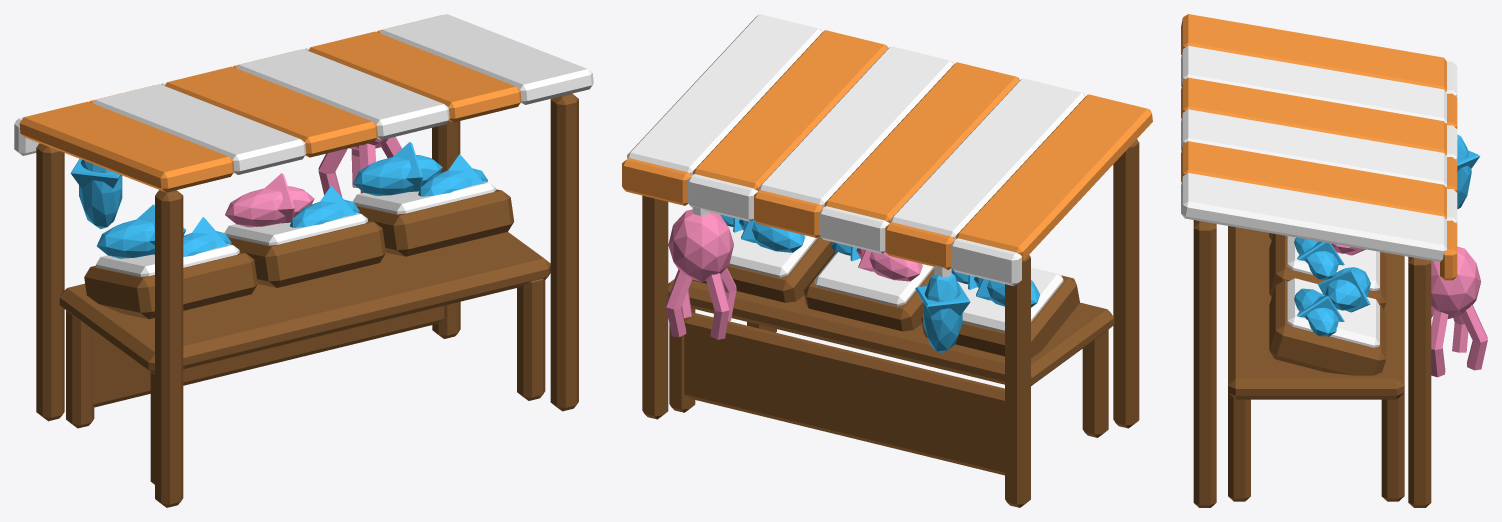
Rendered from Prop_pirate_harbor_FishStall.glb.
The picture shows the model from 3 angles, left to right: view 1: azimuth 30°, elevation 25°; view 2: azimuth 150°, elevation 25°; view 3: azimuth 270°, elevation 25°; orthographic projection. The views are drawn at different scales.
Visible parts, largest first — view 1: WoodDark_8A5A2B, White_FFFFFF, HarborOrange_FF9A3D, FishBlue_38BDF8, Pink_FF8FC0; view 2: WoodDark_8A5A2B, White_FFFFFF, HarborOrange_FF9A3D, Pink_FF8FC0, FishBlue_38BDF8; view 3: WoodDark_8A5A2B, White_FFFFFF, HarborOrange_FF9A3D, FishBlue_38BDF8, Pink_FF8FC0.
Part boxes in pixels (bbox=[...]): WoodDark_8A5A2B: bbox=[36, 93, 578, 507]; White_FFFFFF: bbox=[14, 14, 593, 276]; HarborOrange_FF9A3D: bbox=[19, 15, 521, 192]; FishBlue_38BDF8: bbox=[70, 142, 487, 258]; Pink_FF8FC0: bbox=[225, 136, 401, 227]; WoodDark_8A5A2B: bbox=[642, 139, 1139, 507]; White_FFFFFF: bbox=[627, 14, 1085, 332]; HarborOrange_FF9A3D: bbox=[622, 30, 1152, 269]; Pink_FF8FC0: bbox=[666, 209, 922, 339]; FishBlue_38BDF8: bbox=[720, 214, 1040, 353]; WoodDark_8A5A2B: bbox=[1193, 220, 1431, 507]; White_FFFFFF: bbox=[1181, 46, 1457, 347]; HarborOrange_FF9A3D: bbox=[1181, 14, 1457, 280]; FishBlue_38BDF8: bbox=[1294, 134, 1479, 336]; Pink_FF8FC0: bbox=[1331, 243, 1487, 377].
Size of the model in its own units: 11.8 by 8.92 by 8.
